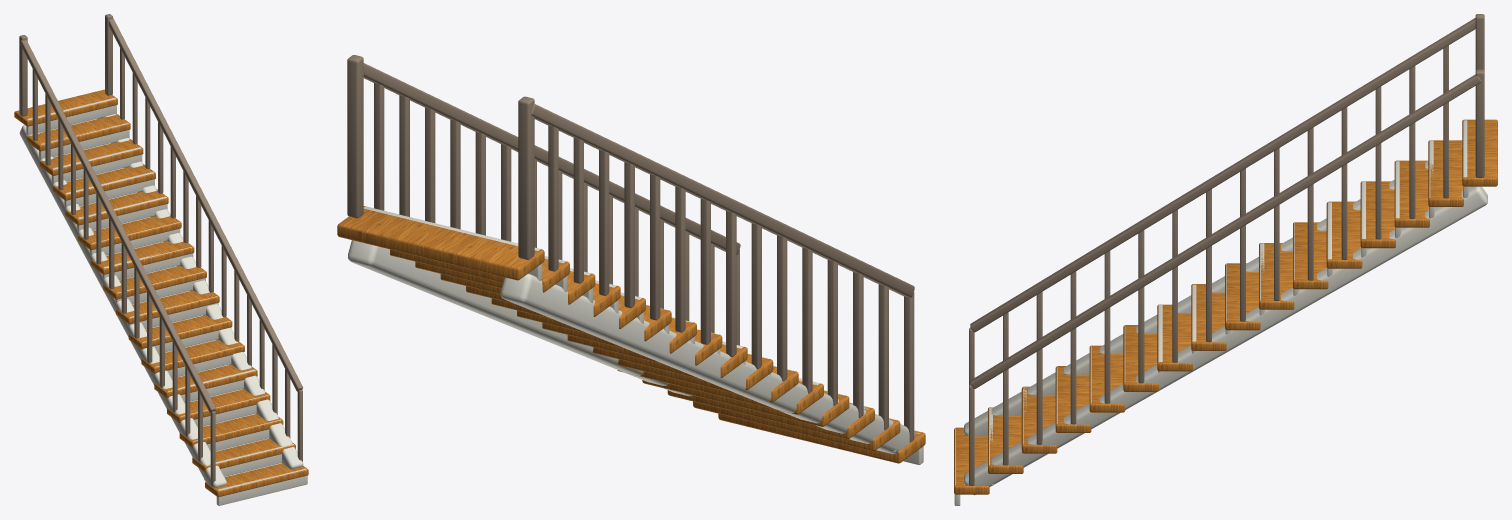
Rendered from stairs-traditional.glb.
The picture shows the model from 3 angles, left to right: view 1: azimuth 30°, elevation 25°; view 2: azimuth 150°, elevation 25°; view 3: azimuth 270°, elevation 25°; orthographic projection. The views are drawn at different scales.
Visible parts, largest first — view 1: stairs-traditional; view 2: stairs-traditional; view 3: stairs-traditional.
Boxes of the visible parts, x1,y1,x2,y2 form: stairs-traditional: (14, 14, 308, 505); stairs-traditional: (337, 55, 925, 464); stairs-traditional: (954, 14, 1497, 505).
Bounding box in the file's own units: 1.1 × 3.7 × 4.2.
Materials: 3 (1 with a texture image).
